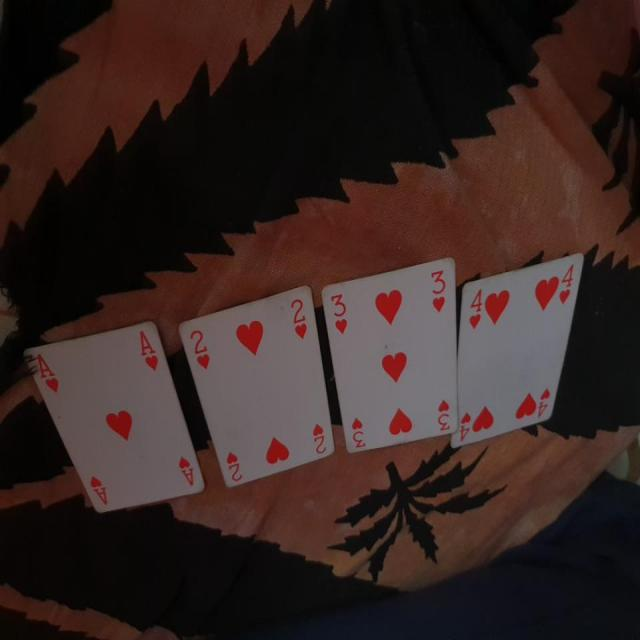2 Hearts: (173, 280, 344, 508)
3 Hearts: (319, 251, 464, 462)
4 Hearts: (454, 246, 587, 439)
A Hearts: (17, 317, 204, 514)
